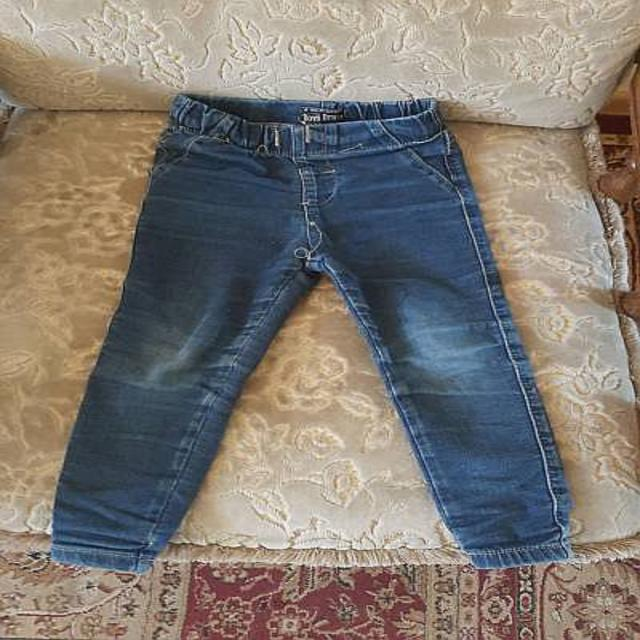TROUSER: (39, 77, 600, 575)
